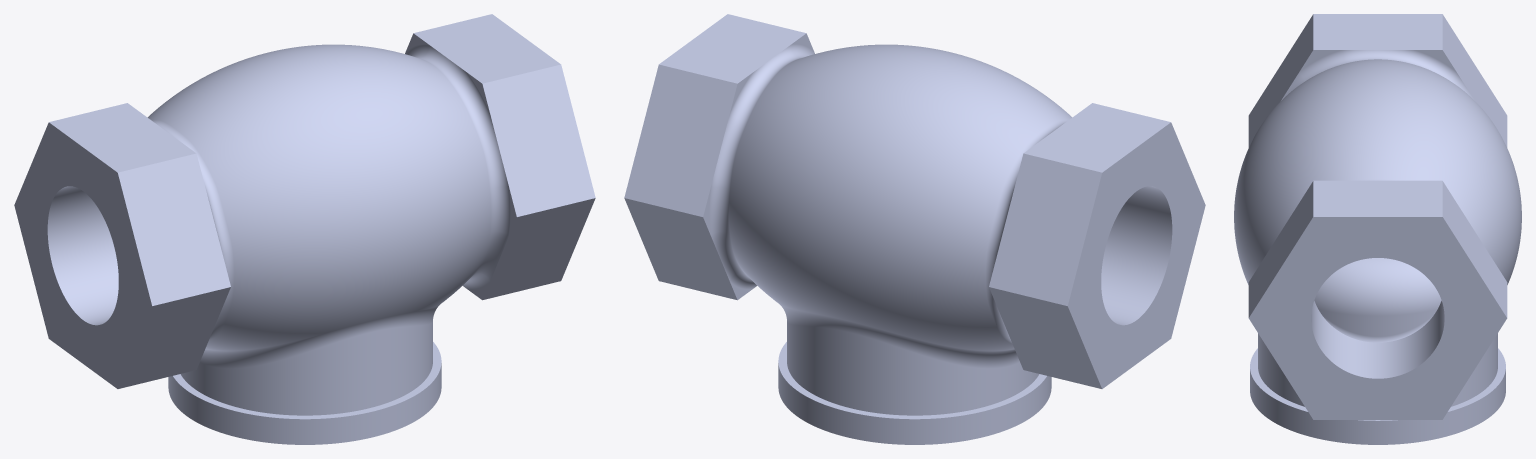
3 renders of one model, left to right at view 1: azimuth 30°, elevation 25°; view 2: azimuth 150°, elevation 25°; view 3: azimuth 270°, elevation 25°, orthographic. The views are drawn at different scales.
Visible parts, largest first — view 1: 圆角11; view 2: 圆角11; view 3: 圆角11.
Part boxes in pixels (x1,y1,x2,y2): 圆角11: [14, 14, 595, 444]; 圆角11: [624, 14, 1205, 444]; 圆角11: [1234, 14, 1521, 444].
Bounding box in the file's own units: 3.54 × 2.48 × 2.13.
